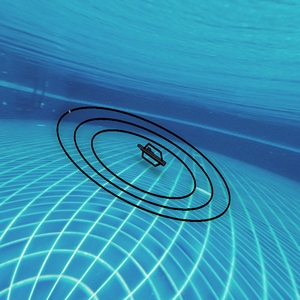circle: (42, 87, 232, 243)
